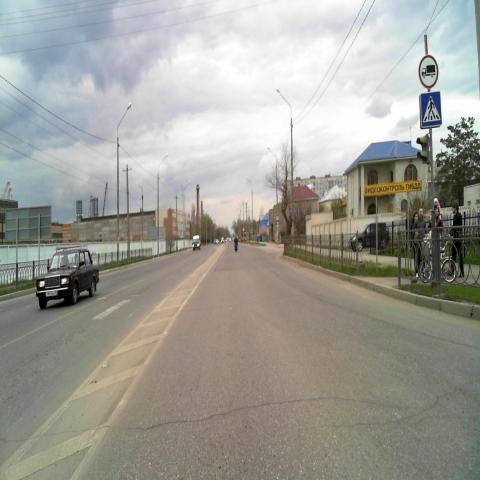3_4_1: (418, 54, 438, 90)
